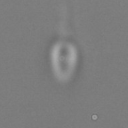normal: (55, 1, 75, 39)
